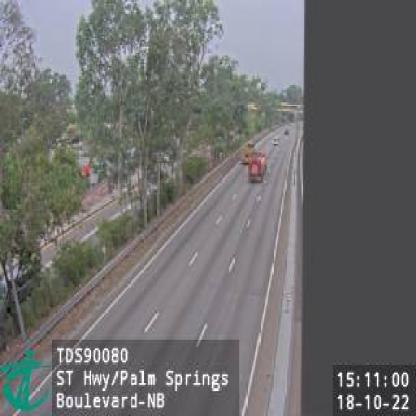Car: (271, 134, 281, 147)
Truck: (247, 150, 268, 183)
